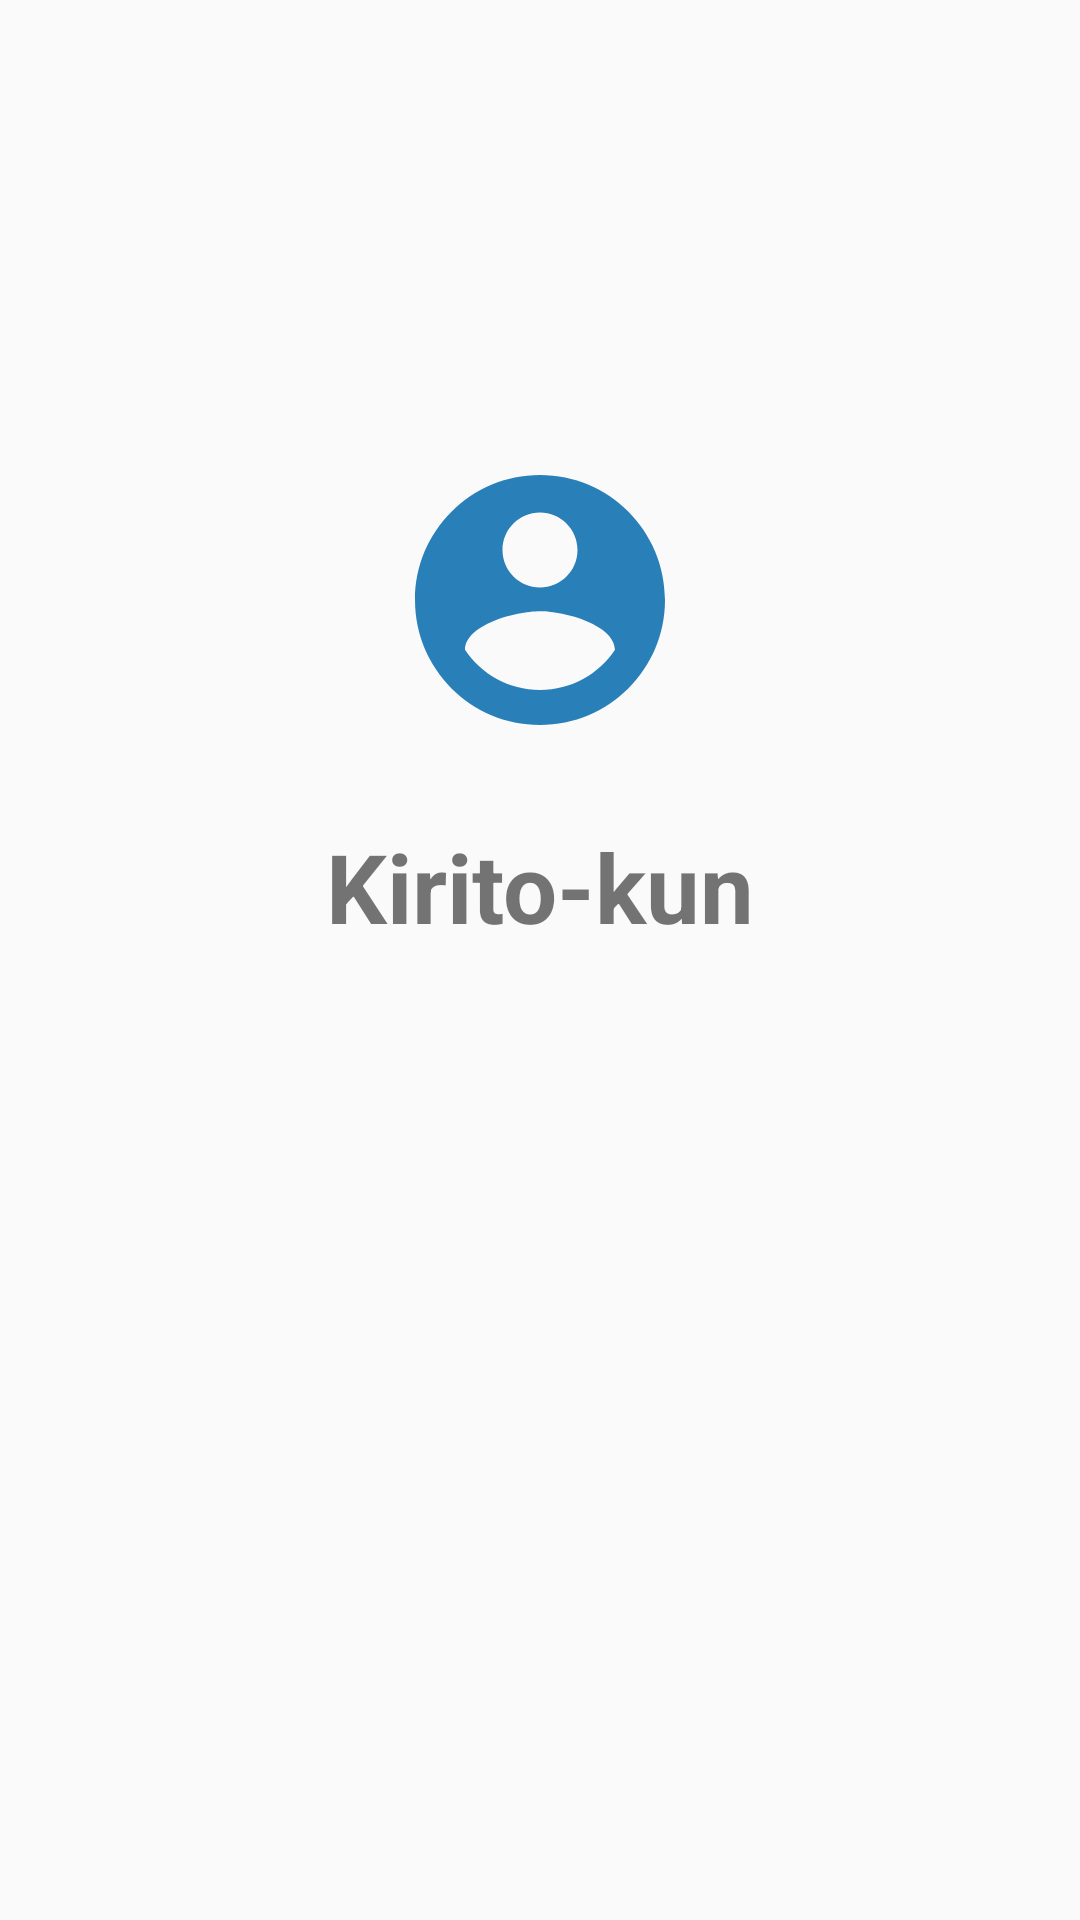

Where icons sit on this 1080x1920 app screen, as (x1, y1, x2, y2):
account: (415, 475, 665, 725)
